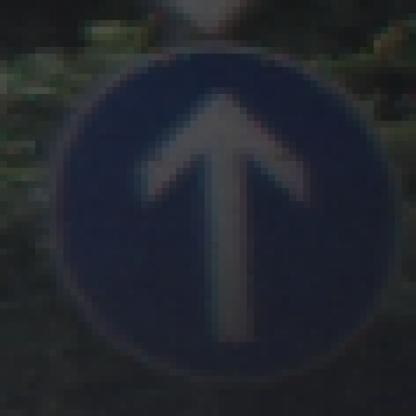AheadOnly: (43, 35, 382, 384)
